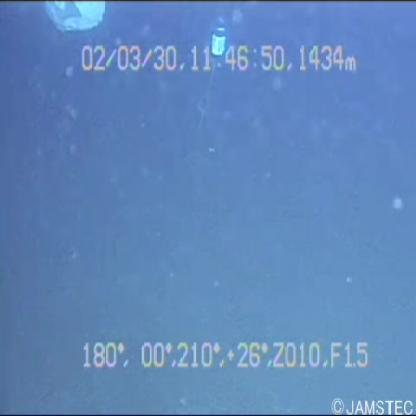Rác: (40, 1, 109, 41)
